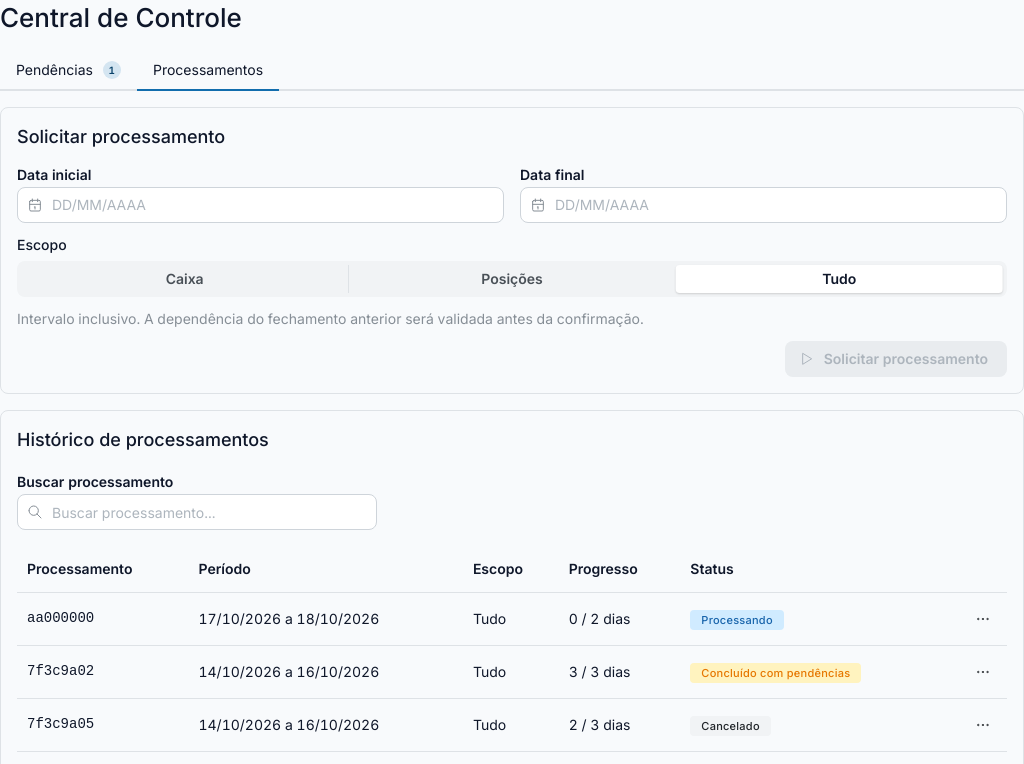
Scenario: Processamentos: cancel (§10.2) › OQ-46 shows the API message when a cancel was already asked
Click the button named "Ações do processamento": (983,619) [969,605,997,633]
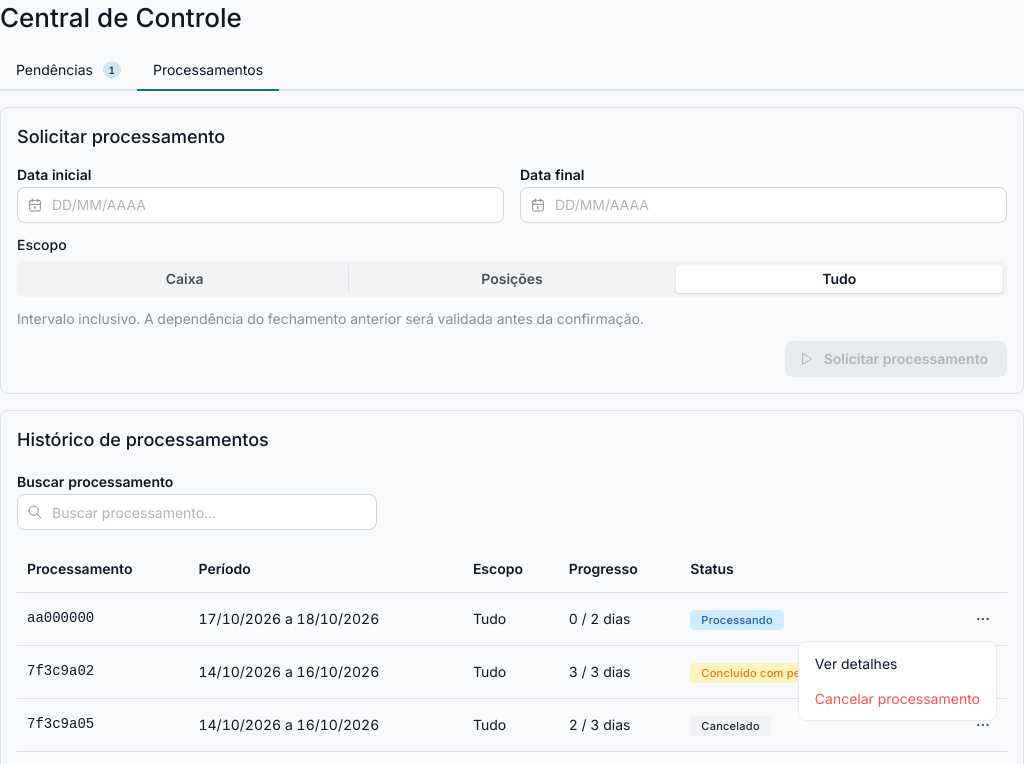
Click the menu item "Cancelar processamento": (897,698) [803,681,992,716]
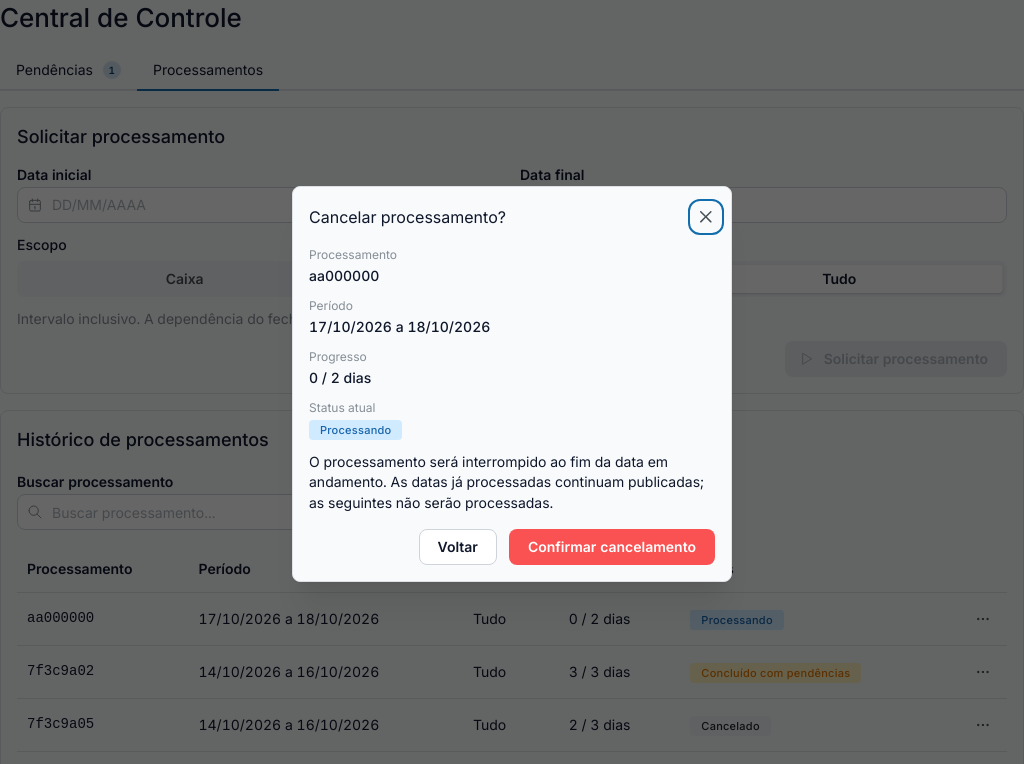
Click the button "Confirmar cancelamento": (612,547) [509,529,715,565]
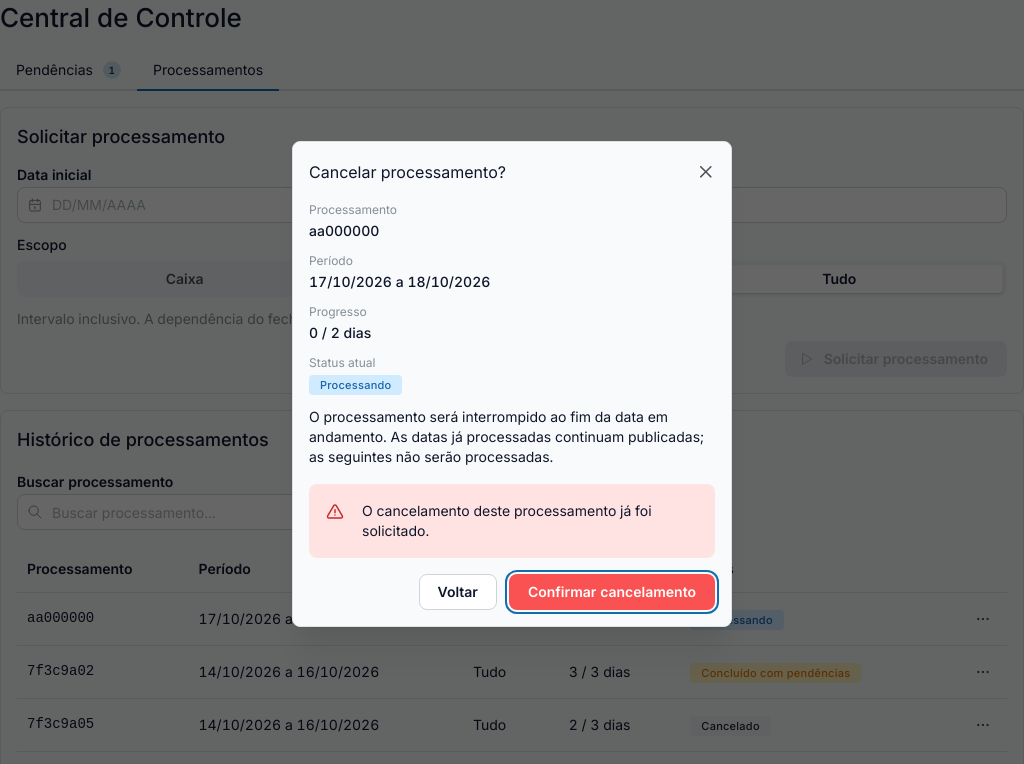
Check: the message reads "O cancelamento deste processamento já foi solicitado.", box [362,502,652,539]
